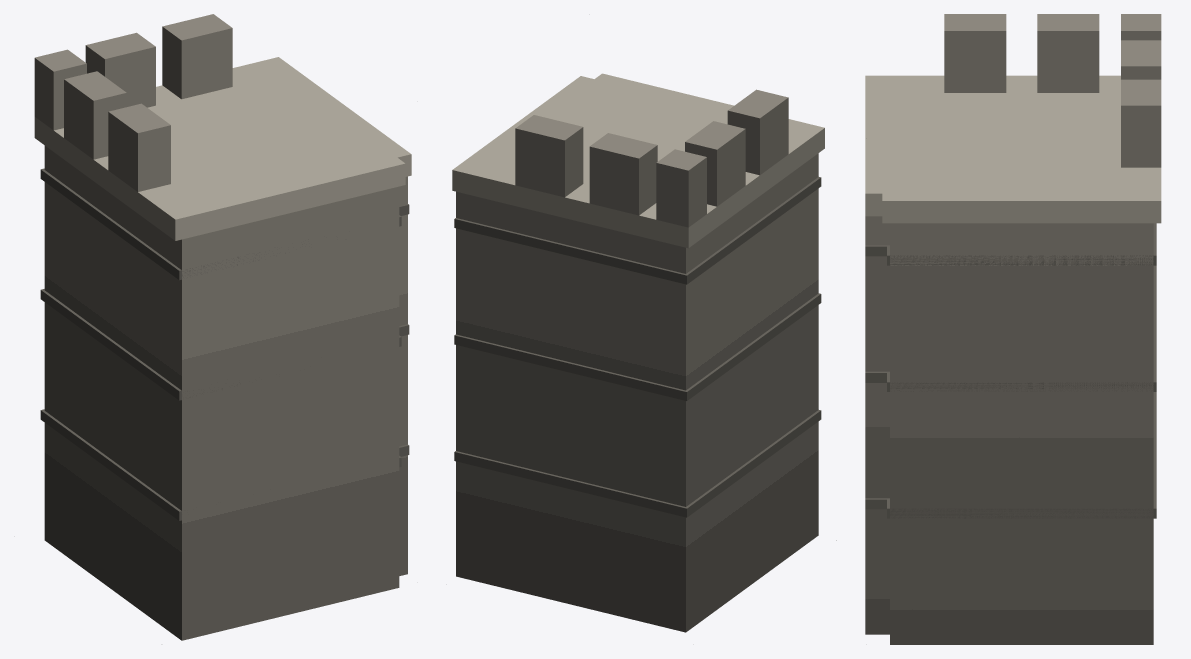
The model's file is perimeter_wall_stone_corner.glb.
3 renders of one model, left to right at view 1: azimuth 30°, elevation 25°; view 2: azimuth 150°, elevation 25°; view 3: azimuth 270°, elevation 25°, orthographic. The views are drawn at different scales.
Bounding box in the file's own units: 2.01 × 3.6 × 2.01.
Materials: 1 (1 with a texture image).
